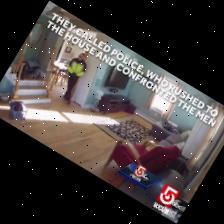person: (64, 53, 86, 105)
